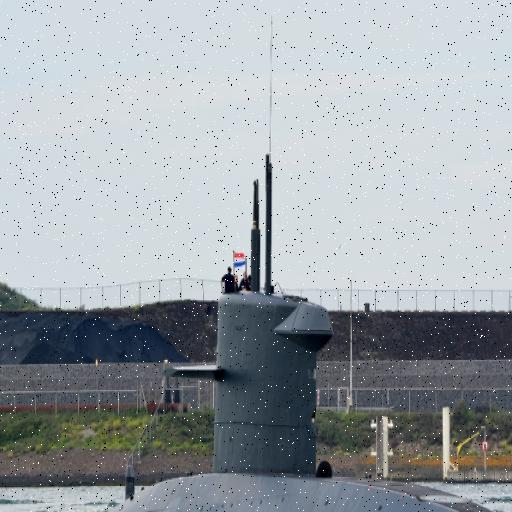submarine: (82, 149, 512, 512)
